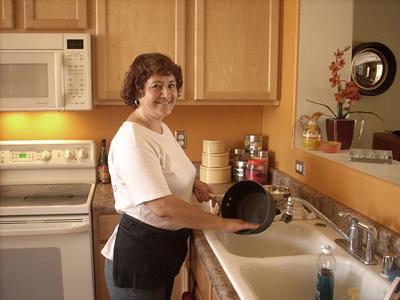person: (101, 52, 265, 300)
